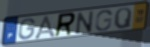A: (33, 14, 57, 39)
G: (18, 17, 37, 41), (94, 9, 113, 32)
N: (75, 9, 95, 35)
Q: (113, 7, 133, 30)
R: (54, 12, 78, 39)
